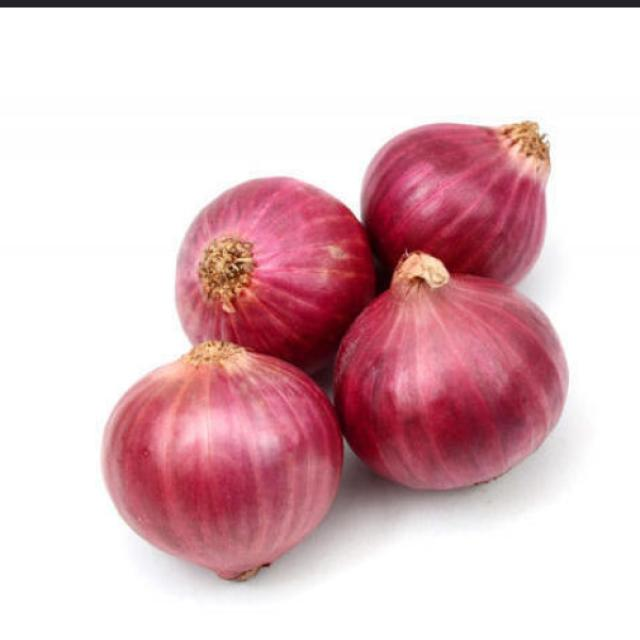healthy: (177, 178, 374, 371)
